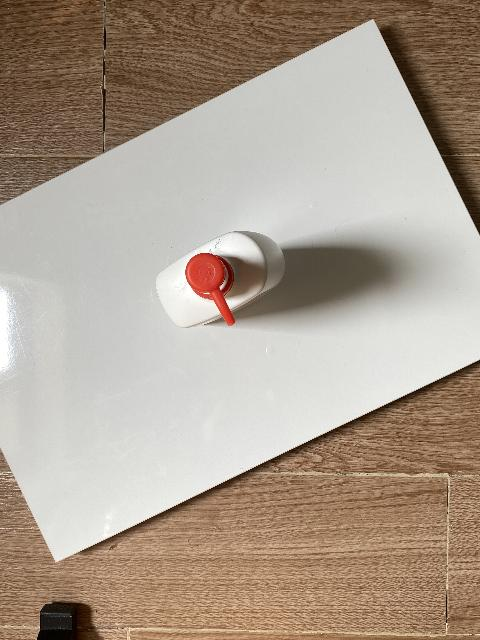life-buoy: (155, 231, 286, 329)
